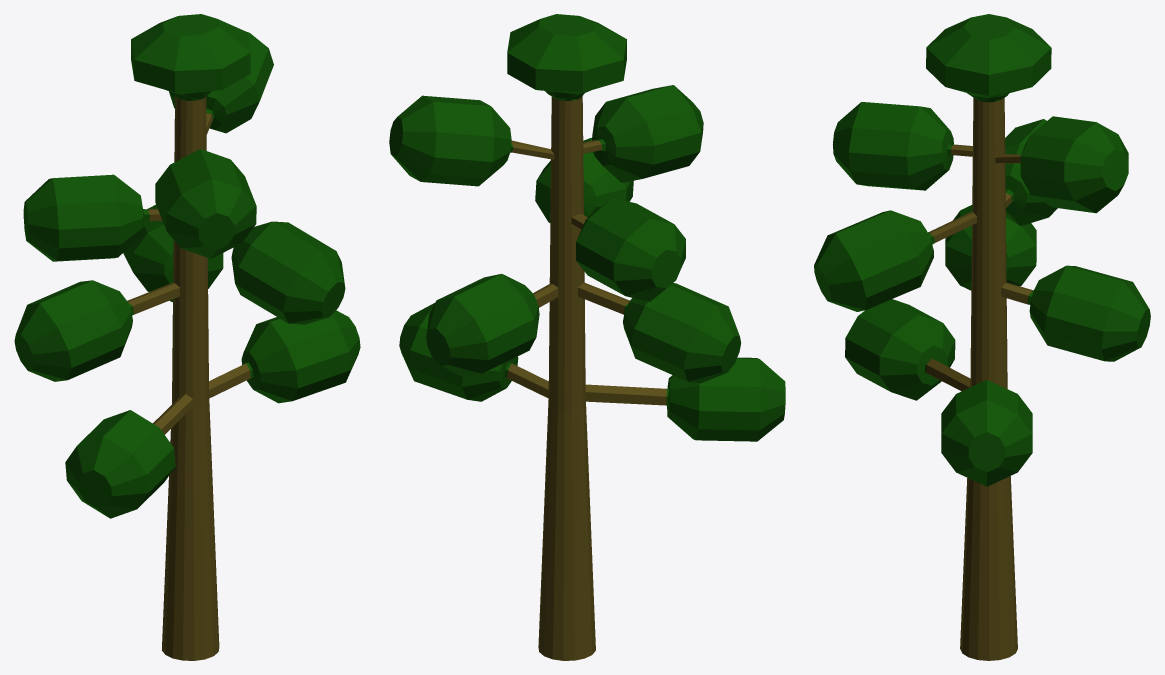
The model's file is Pine_tree.fbx.
3 renders of one model, left to right at view 1: azimuth 30°, elevation 25°; view 2: azimuth 150°, elevation 25°; view 3: azimuth 270°, elevation 25°, orthographic.
Parts seen in each view (by area): view 1: Cylinder; view 2: Cylinder; view 3: Cylinder.
Boxes of the visible parts, x1,y1,x2,y2 form: Cylinder: (14, 14, 360, 660); Cylinder: (389, 14, 785, 660); Cylinder: (814, 14, 1150, 660).
Size of the model in its own units: 178 by 322 by 158.
